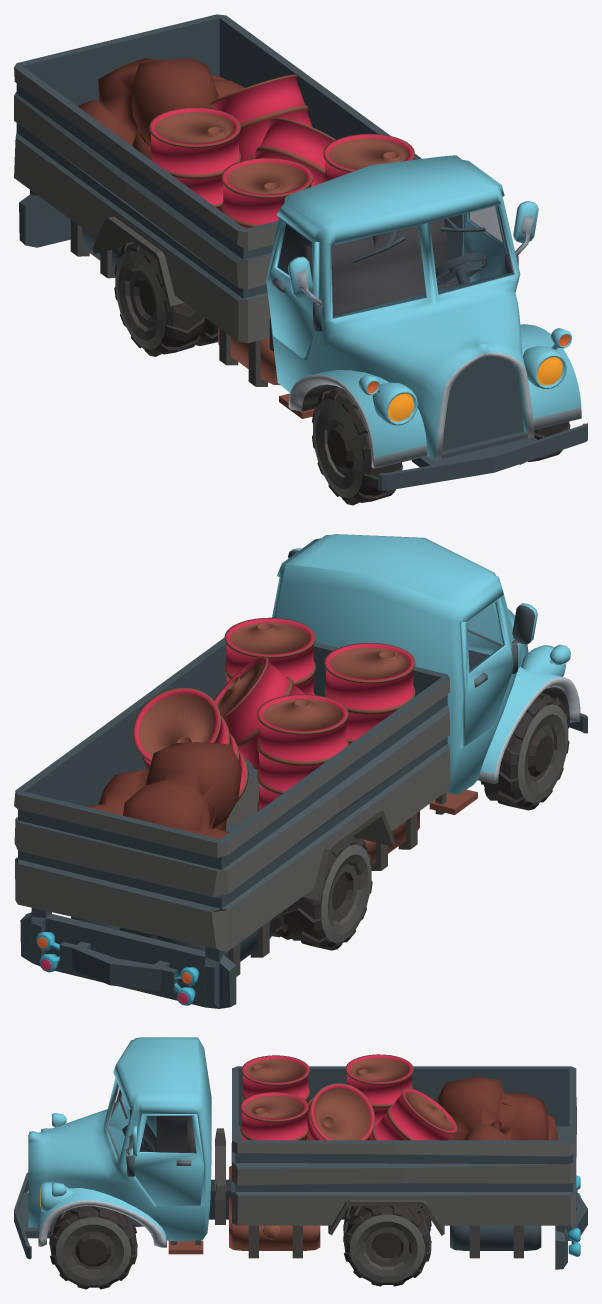
Rendered from truck_04.glb.
3 renders of one model, top to bottom at view 1: azimuth 30°, elevation 25°; view 2: azimuth 150°, elevation 25°; view 3: azimuth 270°, elevation 25°, orthographic. The views are drawn at different scales.
Parts seen in each view (by area): view 1: Truck_body, Truck_Trailer2, Prop1, Truck_Engine, Truck_Wheel_Back, Truck_Wheel_Front.right, Truck_Door.right, Truck_Door.left, Truck_Bumper, TruckModule_OilTank, Truck_WheelCover, TruckModule_Laggage (+1 smaller); view 2: Truck_Trailer2, Prop1, Truck_body, Truck_Bumper, Truck_Wheel_Back, Truck_Wheel_Front.right, Truck_Door.right, Truck_WheelCover, TruckModule_Laggage, TruckModule_OilTank; view 3: Truck_Trailer2, Truck_body, Prop1, Truck_Wheel_Back, Truck_Wheel_Front.left, Truck_Door.left, TruckModule_OilTank, TruckModule_Laggage, Truck_Chassy_Short, Truck_Bumper, Truck_Engine, Truck_WheelCover.
Boxes of the visible parts, <box> form: Truck_body: <box>270,155,581,468</box>; Truck_Trailer2: <box>14,14,421,342</box>; Prop1: <box>78,58,414,228</box>; Truck_Engine: <box>378,356,587,490</box>; Truck_Wheel_Back: <box>114,241,218,356</box>; Truck_Wheel_Front.right: <box>312,387,402,505</box>; Truck_Door.right: <box>266,217,318,358</box>; Truck_Door.left: <box>462,206,507,282</box>; Truck_Bumper: <box>19,190,70,247</box>; TruckModule_OilTank: <box>218,328,280,386</box>; Truck_WheelCover: <box>92,216,184,307</box>; TruckModule_Laggage: <box>69,219,121,278</box>; Truck_Trailer2: <box>14,637,450,951</box>; Prop1: <box>88,617,415,839</box>; Truck_body: <box>273,534,580,814</box>; Truck_Bumper: <box>20,908,236,1008</box>; Truck_Wheel_Back: <box>272,836,372,950</box>; Truck_Wheel_Front.right: <box>480,692,569,810</box>; Truck_Door.right: <box>461,597,513,746</box>; Truck_WheelCover: <box>226,778,395,901</box>; TruckModule_Laggage: <box>71,916,271,976</box>; TruckModule_OilTank: <box>354,811,419,870</box>; Truck_Trailer2: <box>231,1066,576,1225</box>; Truck_body: <box>28,1037,211,1254</box>; Prop1: <box>240,1054,558,1140</box>; Truck_Wheel_Back: <box>343,1205,431,1286</box>; Truck_Wheel_Front.left: <box>49,1206,137,1289</box>; Truck_Door.left: <box>132,1114,204,1206</box>; TruckModule_OilTank: <box>229,1166,320,1258</box>; TruckModule_Laggage: <box>450,1225,541,1258</box>; Truck_Chassy_Short: <box>209,1128,345,1224</box>; Truck_Bumper: <box>555,1175,587,1269</box>; Truck_Engine: <box>14,1172,143,1259</box>; Truck_WheelCover: <box>328,1199,444,1235</box>.
Bounding box in the file's own units: 2.96 × 2.98 × 7.96.
4 materials, 3 textured.
